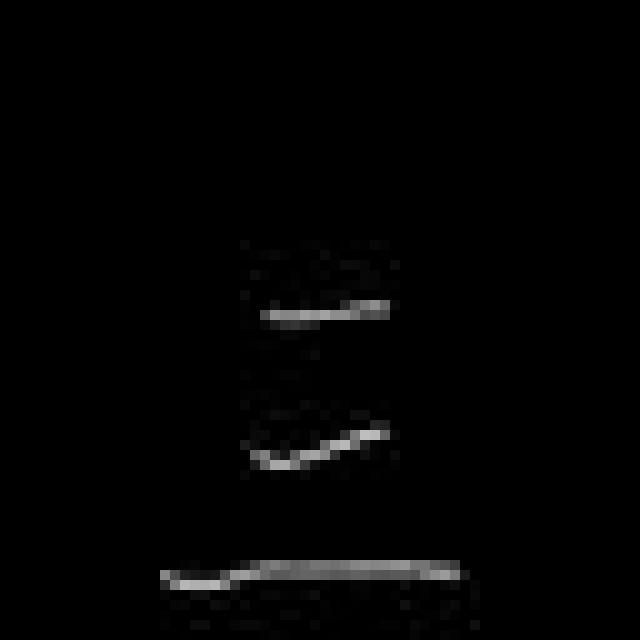3 -three-: (141, 288, 472, 604)
